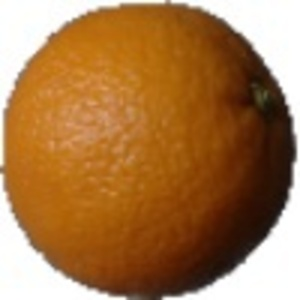laranja: (5, 3, 295, 295)
